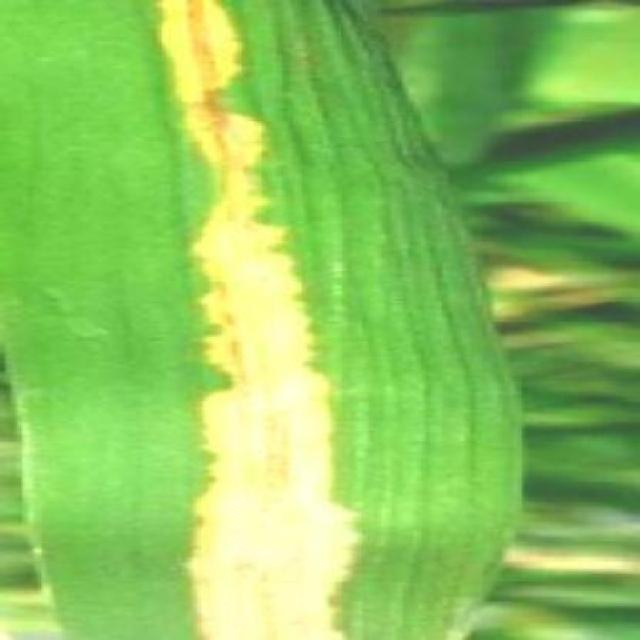Brown_Spot: (24, 2, 485, 640), (127, 94, 387, 640)
